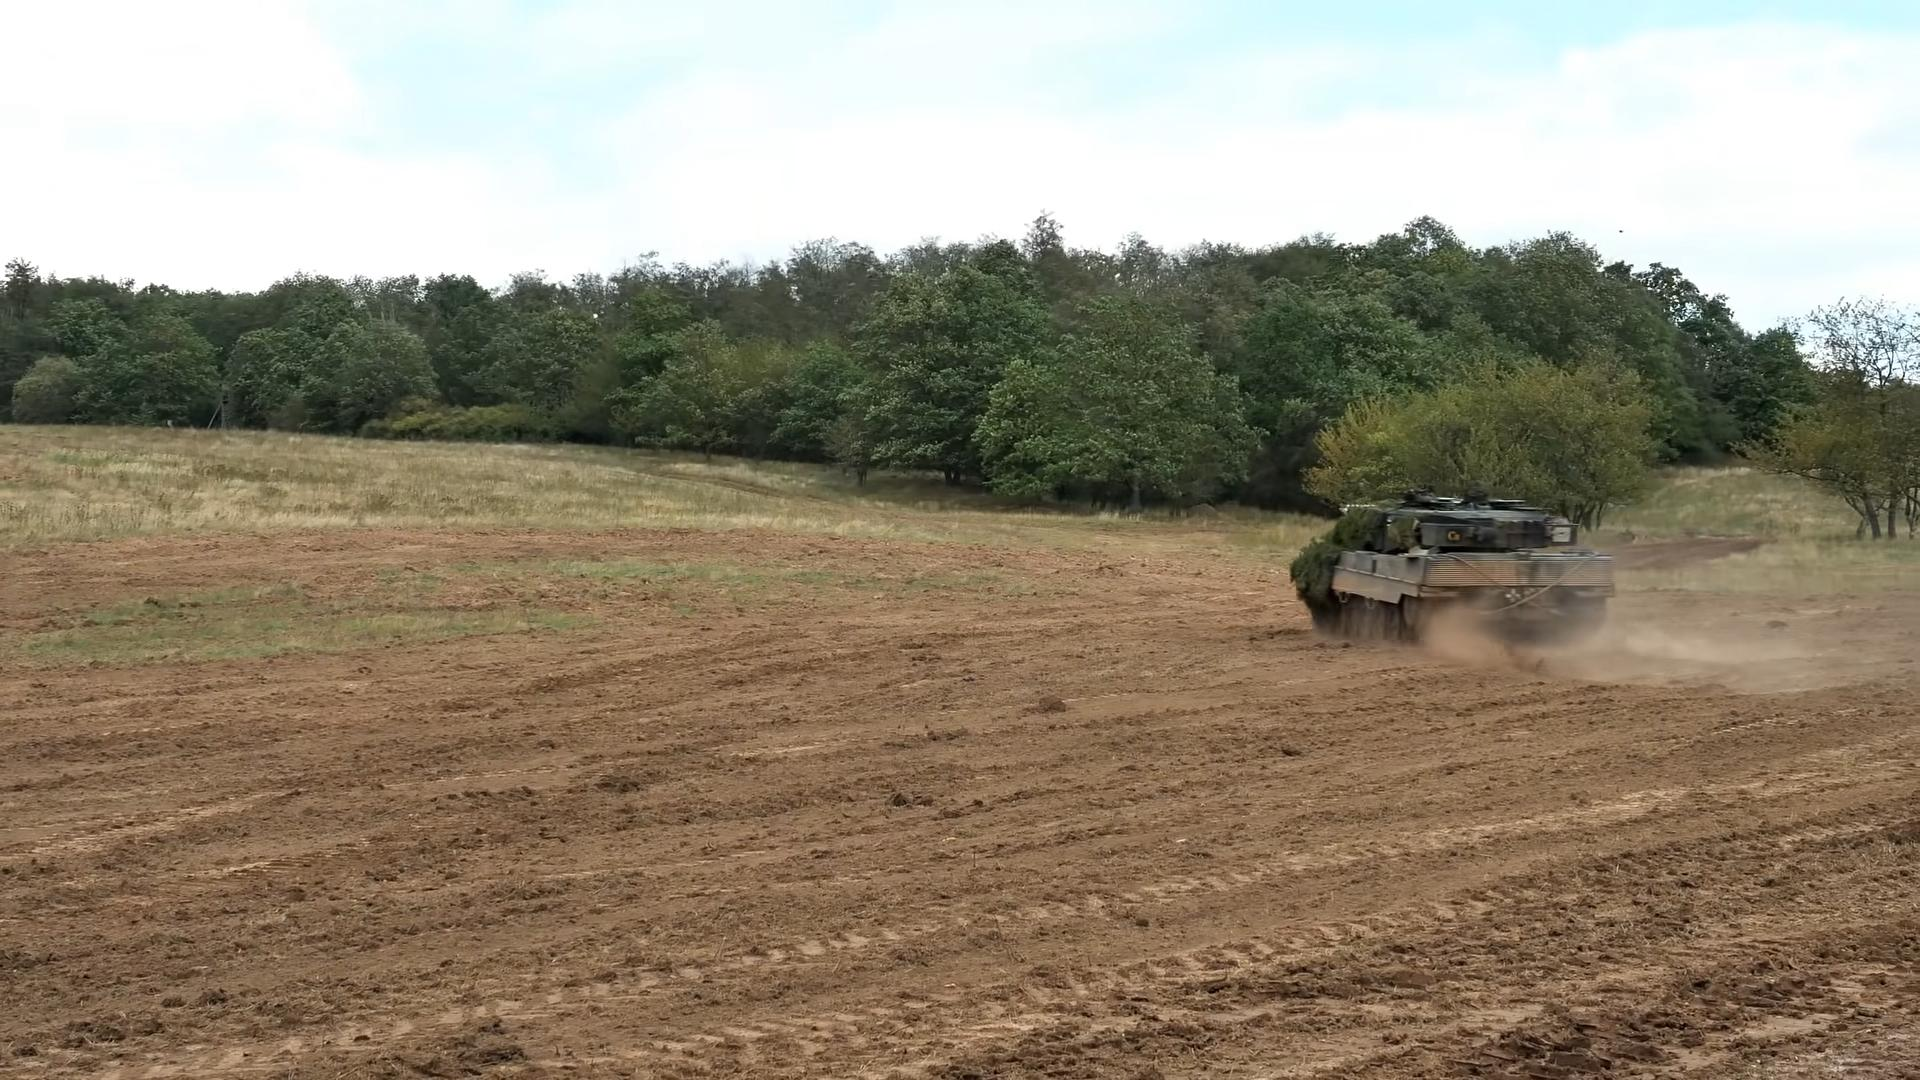tank: (1286, 488, 1617, 649)
